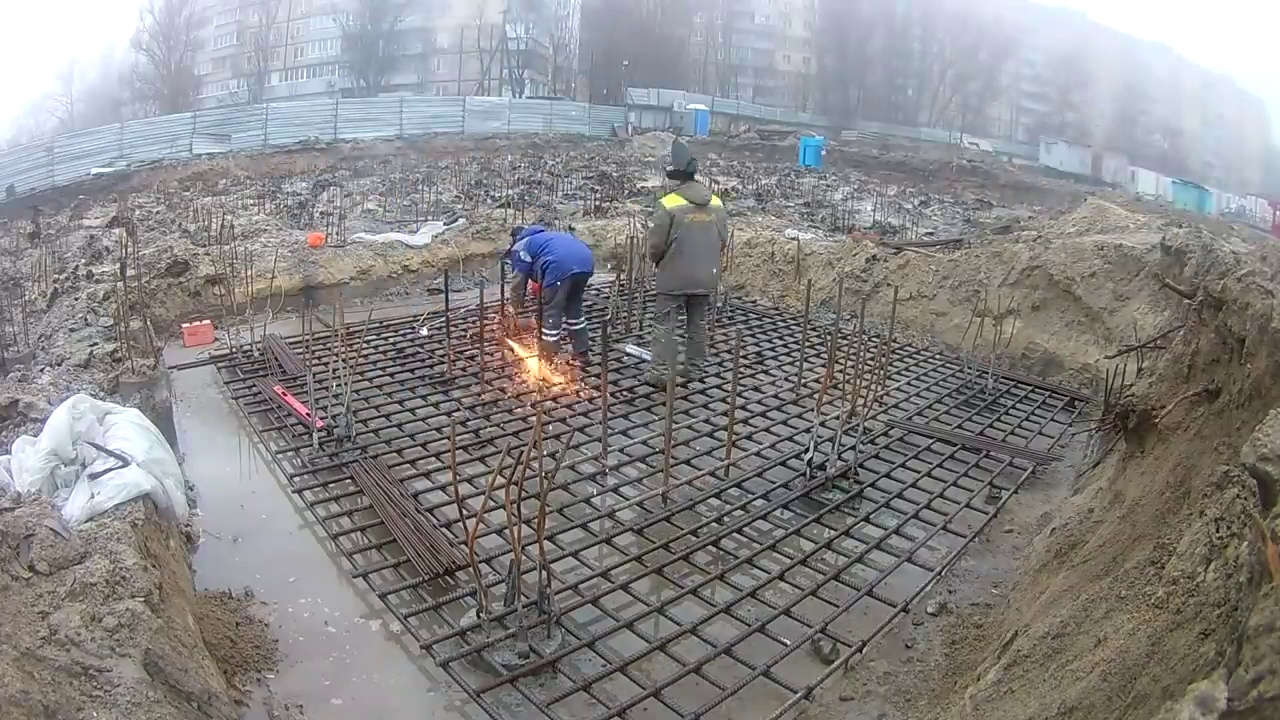helmet: (305, 231, 325, 248)
helmet-off: (662, 138, 704, 200), (508, 222, 543, 247)
person: (639, 138, 731, 389), (501, 221, 595, 371)
